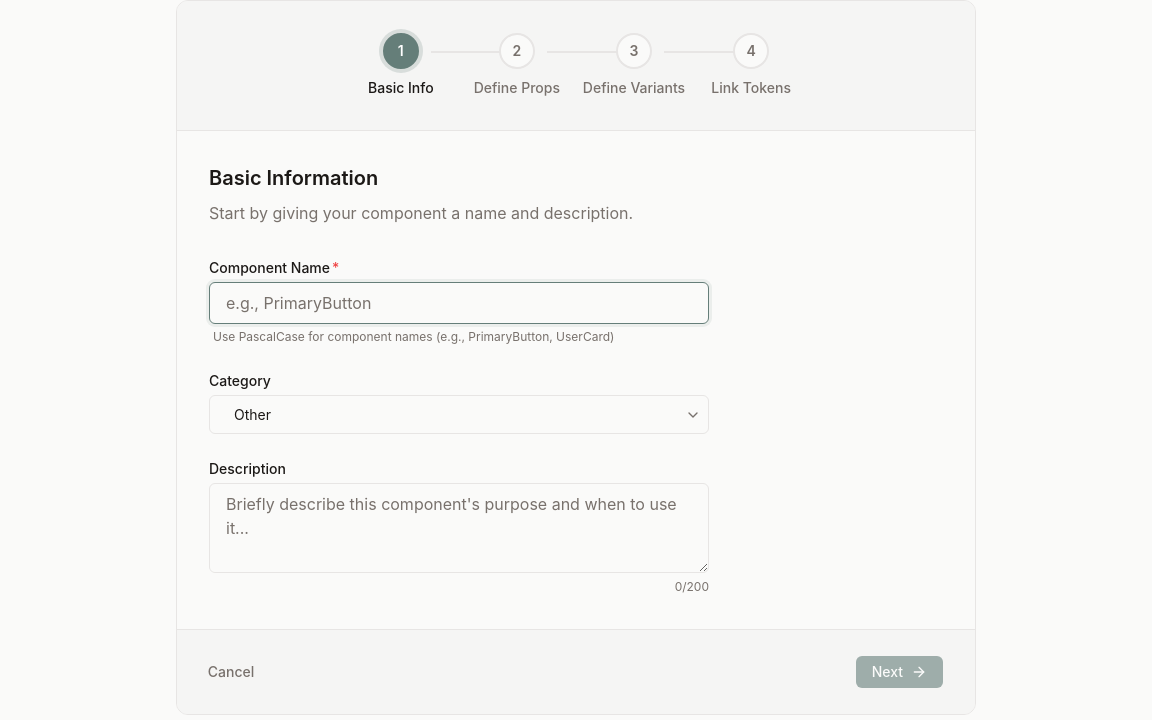
it: Gate 6: Creation Wizards Complete › 2. Step 1 - Basic Info › clicking Next advances to Props step
Step 1. Type "TestButton" into the field labelled "Component Name*" → (459, 303), box x1=209 y1=282 x2=709 y2=324
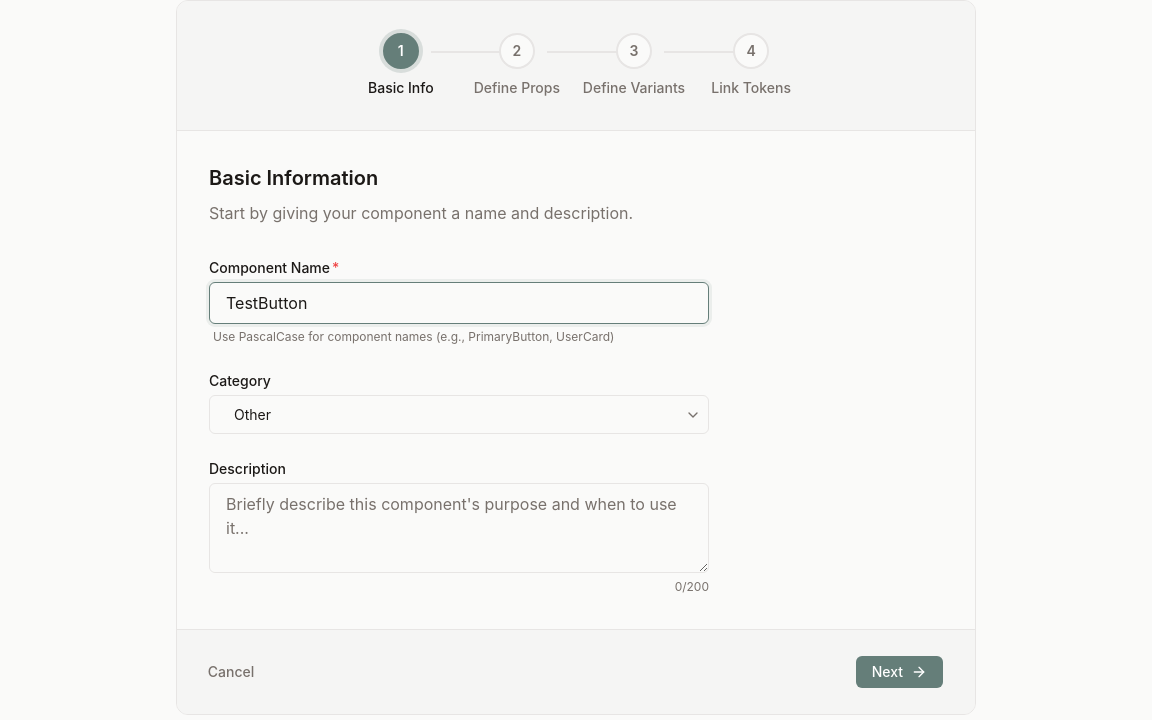
Step 2. Click the button "Next" → (899, 672), box x1=856 y1=656 x2=943 y2=688
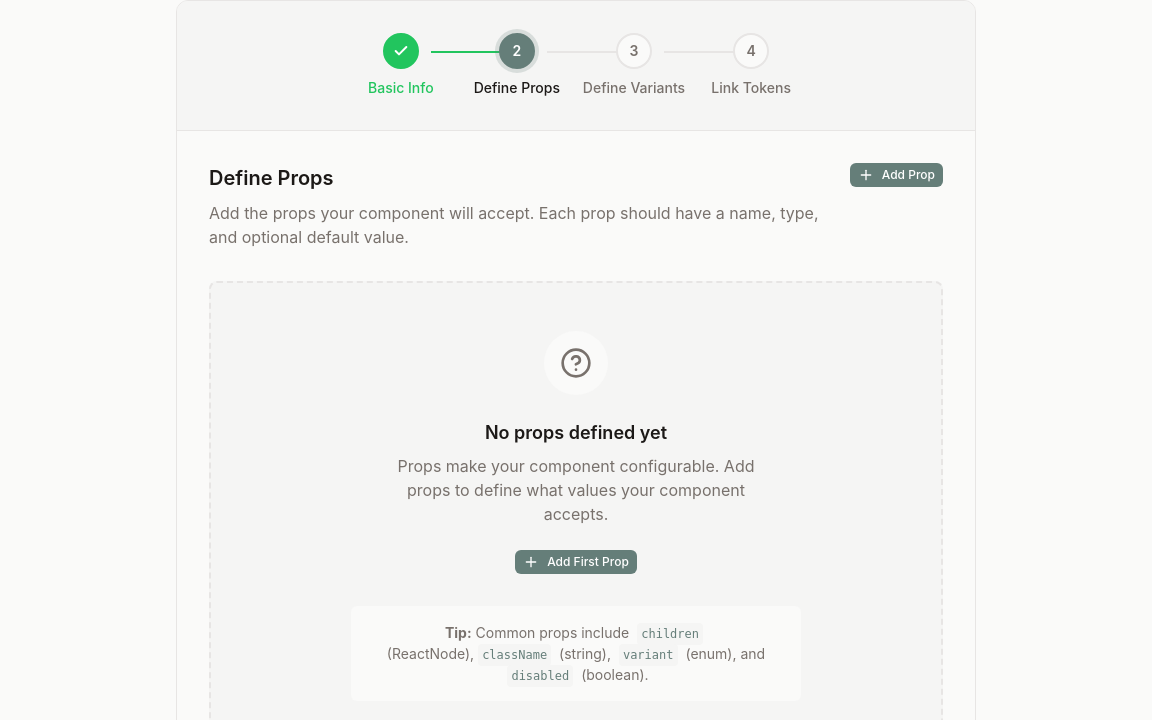
Expected: the heading "Define Props" is shown, x1=209 y1=166 x2=334 y2=190
